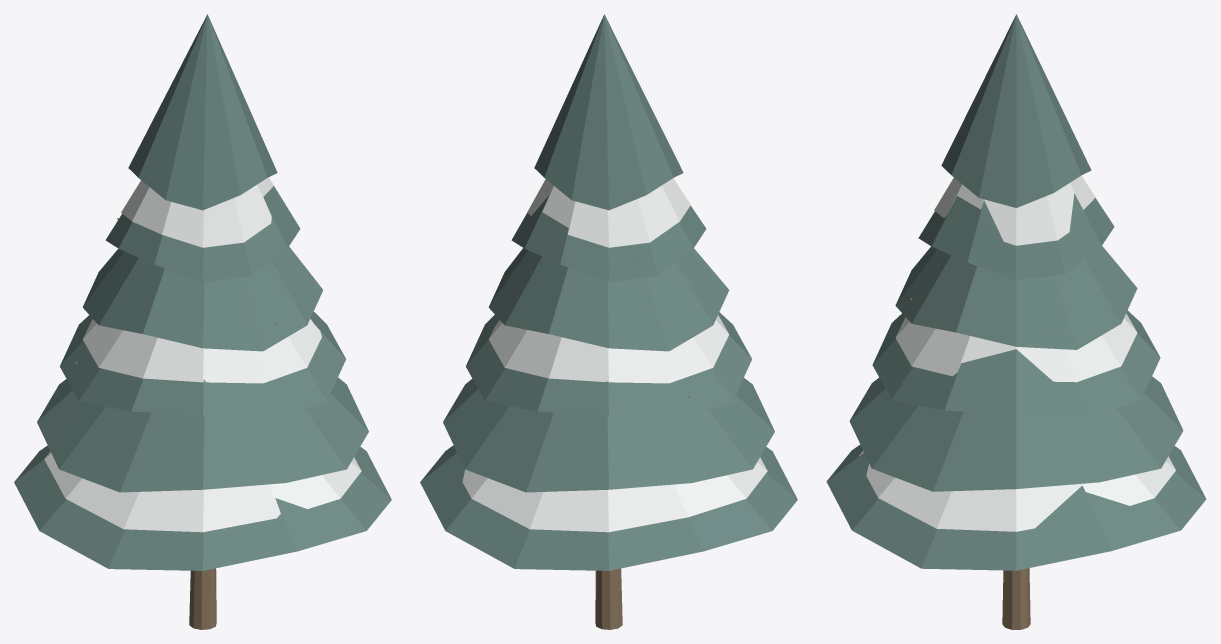
3 views of the same model, side by side, from view 1: azimuth 30°, elevation 25°; view 2: azimuth 150°, elevation 25°; view 3: azimuth 270°, elevation 25° (orthographic).
Bounding box in the file's own units: 8.6 × 15.29 × 8.6.
